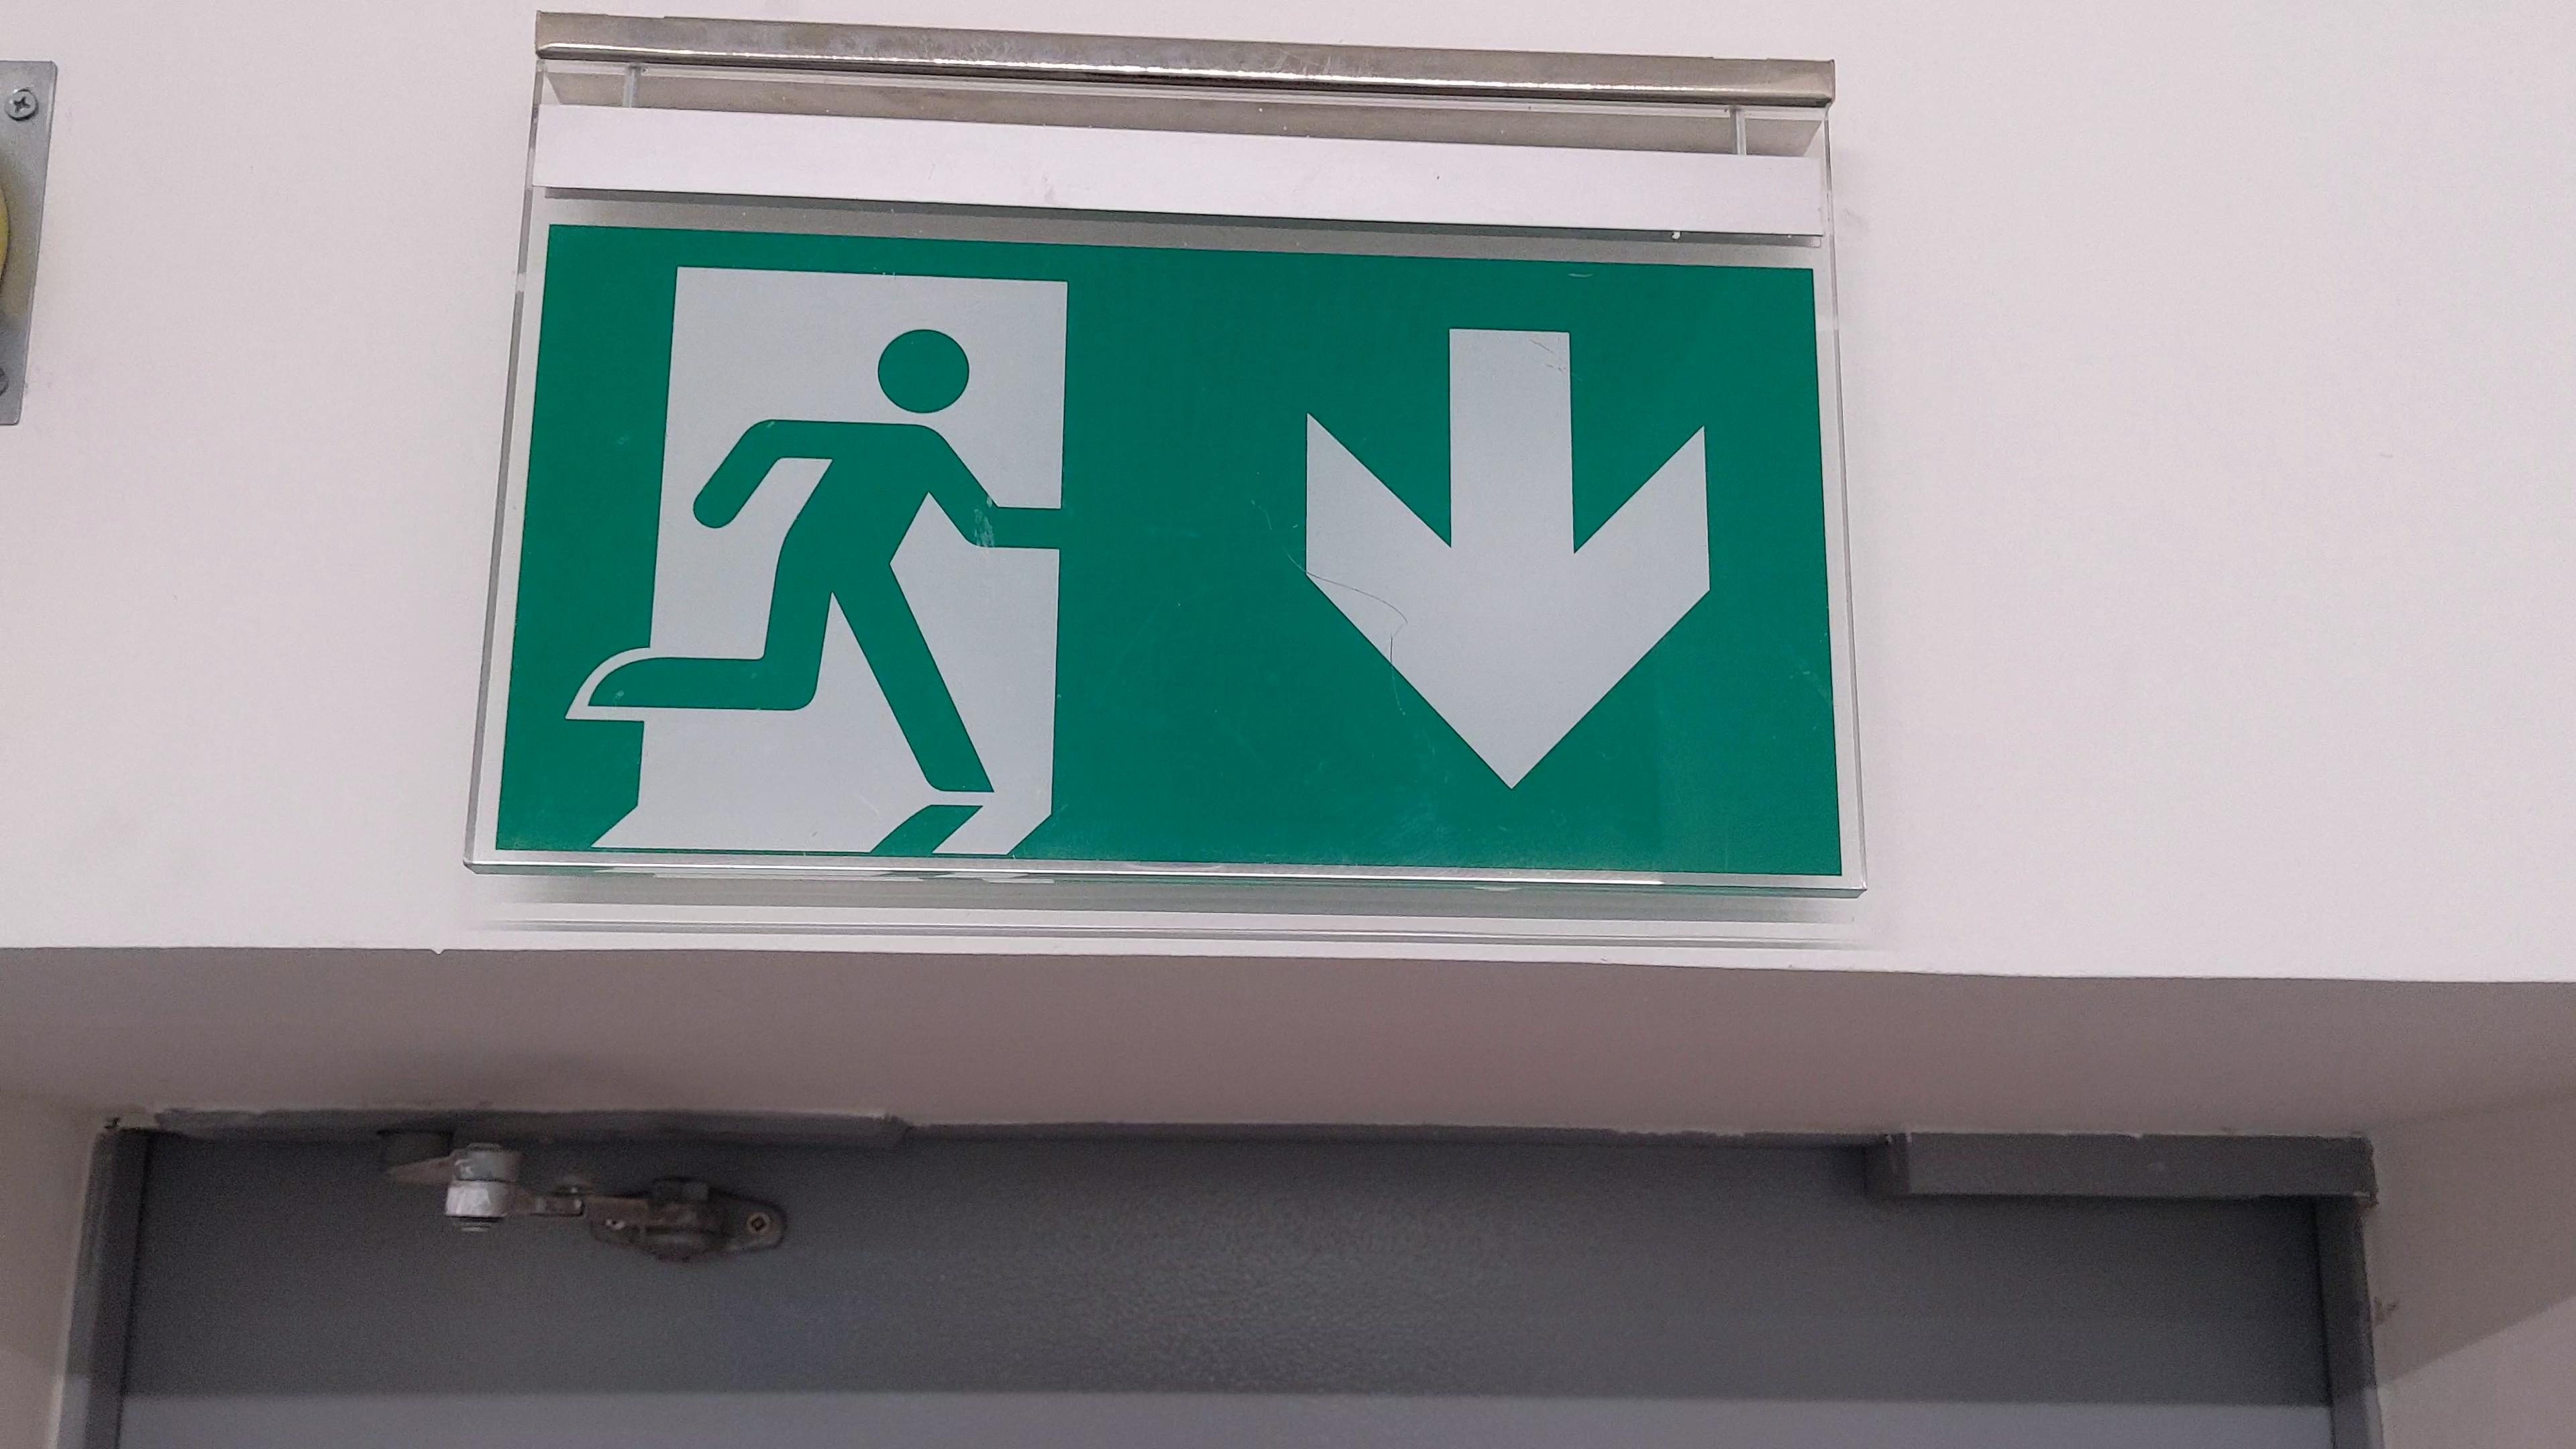emergency down arrow: (1283, 313, 1732, 800)
emergency exit: (554, 249, 1077, 856)
